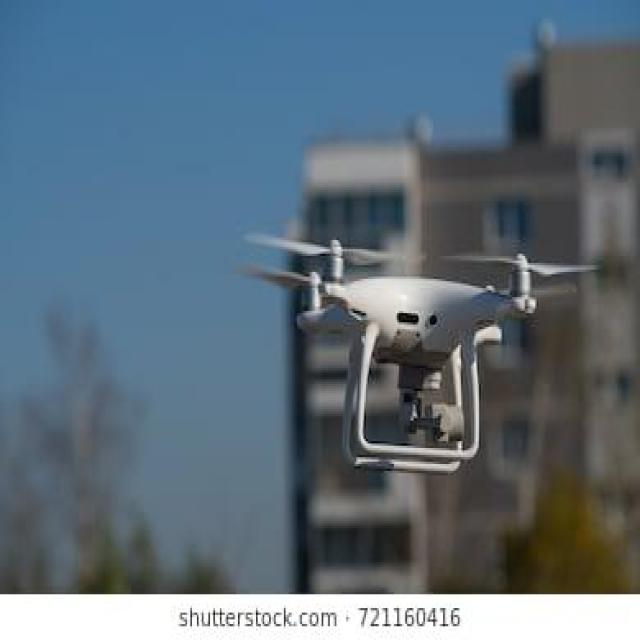drone: (212, 175, 616, 495)
